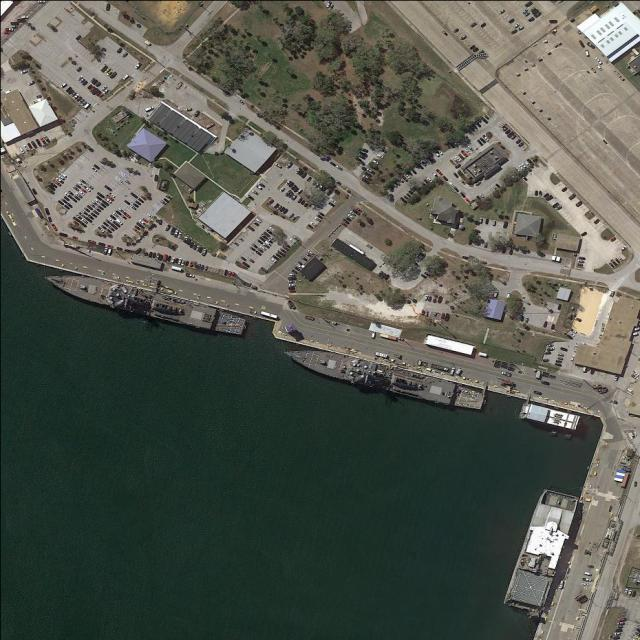Auxiliary Ships: (501, 484, 581, 619)
Destroyer: (279, 342, 486, 412), (40, 268, 248, 336)
